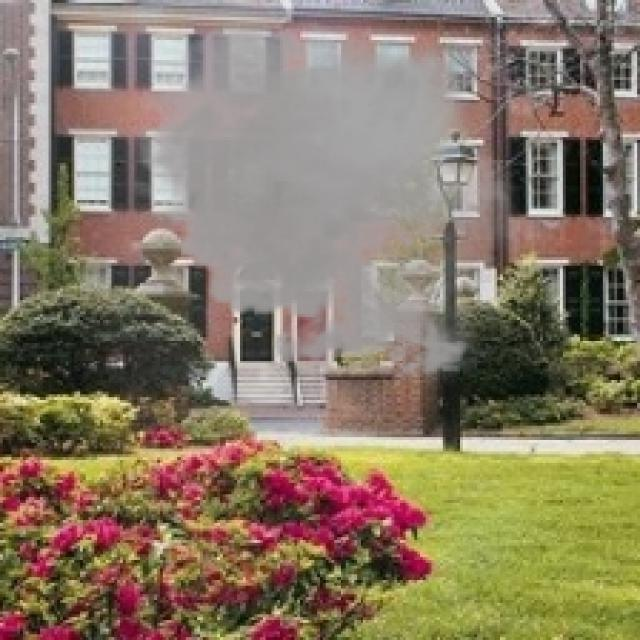smoke: (123, 11, 534, 388)
